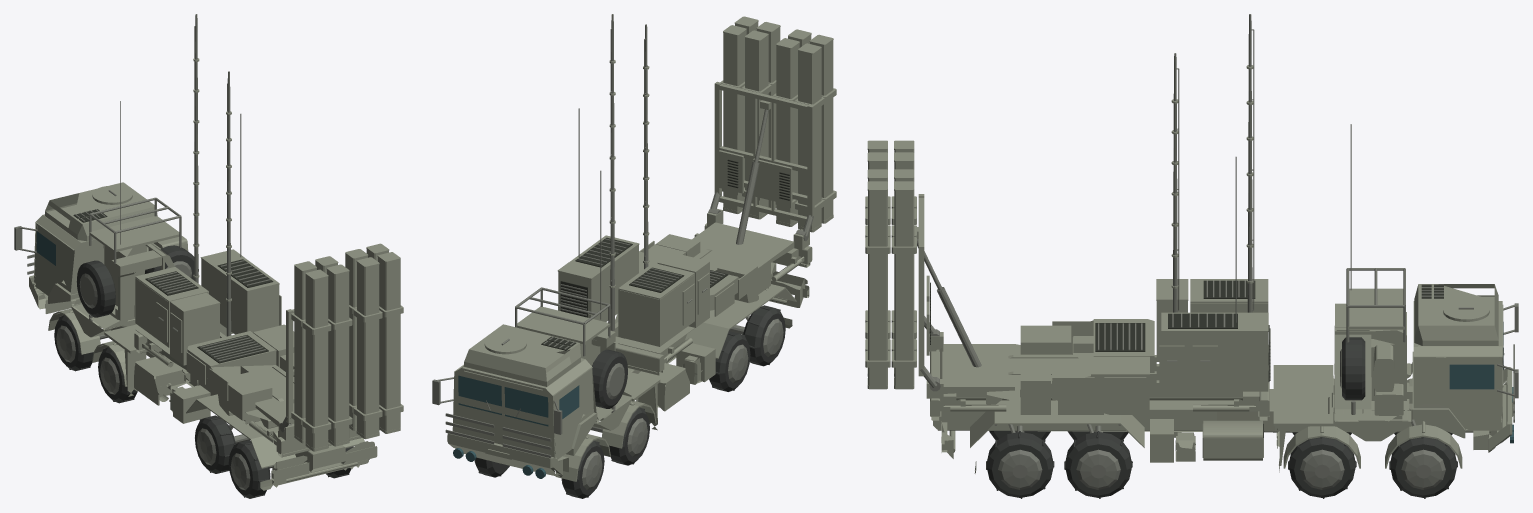
The model's file is germ_iris_slm_launcher.glb.
3 views of the same model, side by side, from view 1: azimuth 30°, elevation 25°; view 2: azimuth 150°, elevation 25°; view 3: azimuth 270°, elevation 25° (orthographic). The views are drawn at different scales.
Visible parts, largest first — view 1: FendersFuelTanksSpareWheelAndRack, EquipmentBoxesAndLaunchPlatform, HullArmour, EquipmentHatchesGrillesStowedLegsAndAntenna, EightPneumaticWheelsAxlesAndSuspension, LaunchContainer08, LaunchContainer06, LaunchContainer05, LaunchContainer07, LaunchContainer01, CabGlazingLightsMirrorsHatchAndAntenna, LaunchContainer03 (+3 smaller); view 2: HullArmour, EquipmentBoxesAndLaunchPlatform, FendersFuelTanksSpareWheelAndRack, EightPneumaticWheelsAxlesAndSuspension, EquipmentHatchesGrillesStowedLegsAndAntenna, OpenLaunchFrame, CabGlazingLightsMirrorsHatchAndAntenna, LaunchContainer01, LaunchContainer02, LaunchContainer04, LaunchContainer03, LaunchContainer08 (+4 smaller); view 3: HullArmour, EquipmentBoxesAndLaunchPlatform, EightPneumaticWheelsAxlesAndSuspension, FendersFuelTanksSpareWheelAndRack, EquipmentHatchesGrillesStowedLegsAndAntenna, LaunchContainer04, LaunchContainer05, CabGlazingLightsMirrorsHatchAndAntenna, gun_mask_01TelescopicMast, OpenLaunchFrame, gun_mask_02TelescopicMast, HydraulicCylinder.
Boxes of the visible parts, x1,y1,x2,y2 form: FendersFuelTanksSpareWheelAndRack: [48, 197, 377, 490]; EquipmentBoxesAndLaunchPlatform: [134, 249, 379, 454]; HullArmour: [29, 182, 362, 472]; EquipmentHatchesGrillesStowedLegsAndAntenna: [142, 113, 281, 445]; EightPneumaticWheelsAxlesAndSuspension: [54, 315, 353, 498]; LaunchContainer08: [302, 275, 331, 448]; LaunchContainer06: [353, 262, 382, 436]; LaunchContainer05: [378, 257, 403, 430]; LaunchContainer07: [327, 270, 352, 443]; LaunchContainer01: [291, 266, 316, 440]; CabGlazingLightsMirrorsHatchAndAntenna: [14, 101, 132, 274]; LaunchContainer03: [345, 254, 367, 427]; HullArmour: [447, 263, 810, 477]; EquipmentBoxesAndLaunchPlatform: [557, 208, 812, 372]; FendersFuelTanksSpareWheelAndRack: [476, 271, 809, 481]; EightPneumaticWheelsAxlesAndSuspension: [474, 305, 785, 498]; EquipmentHatchesGrillesStowedLegsAndAntenna: [560, 108, 804, 363]; OpenLaunchFrame: [710, 81, 814, 236]; CabGlazingLightsMirrorsHatchAndAntenna: [432, 170, 601, 478]; LaunchContainer01: [795, 49, 824, 229]; LaunchContainer02: [773, 43, 799, 223]; LaunchContainer04: [720, 30, 746, 211]; LaunchContainer03: [742, 36, 771, 216]; LaunchContainer08: [810, 40, 836, 220]; HullArmour: [931, 284, 1512, 460]; EquipmentBoxesAndLaunchPlatform: [926, 279, 1269, 416]; EightPneumaticWheelsAxlesAndSuspension: [986, 419, 1457, 498]; FendersFuelTanksSpareWheelAndRack: [941, 268, 1513, 473]; EquipmentHatchesGrillesStowedLegsAndAntenna: [943, 156, 1270, 414]; LaunchContainer04: [891, 191, 916, 385]; LaunchContainer05: [865, 190, 890, 385]; CabGlazingLightsMirrorsHatchAndAntenna: [1350, 124, 1518, 443]; gun_mask_01TelescopicMast: [1246, 14, 1254, 312]; OpenLaunchFrame: [917, 194, 936, 387]; gun_mask_02TelescopicMast: [1171, 53, 1179, 312]; HydraulicCylinder: [937, 287, 981, 367].
Size of the model in its own units: 2.93 by 9.02 by 11.6.
